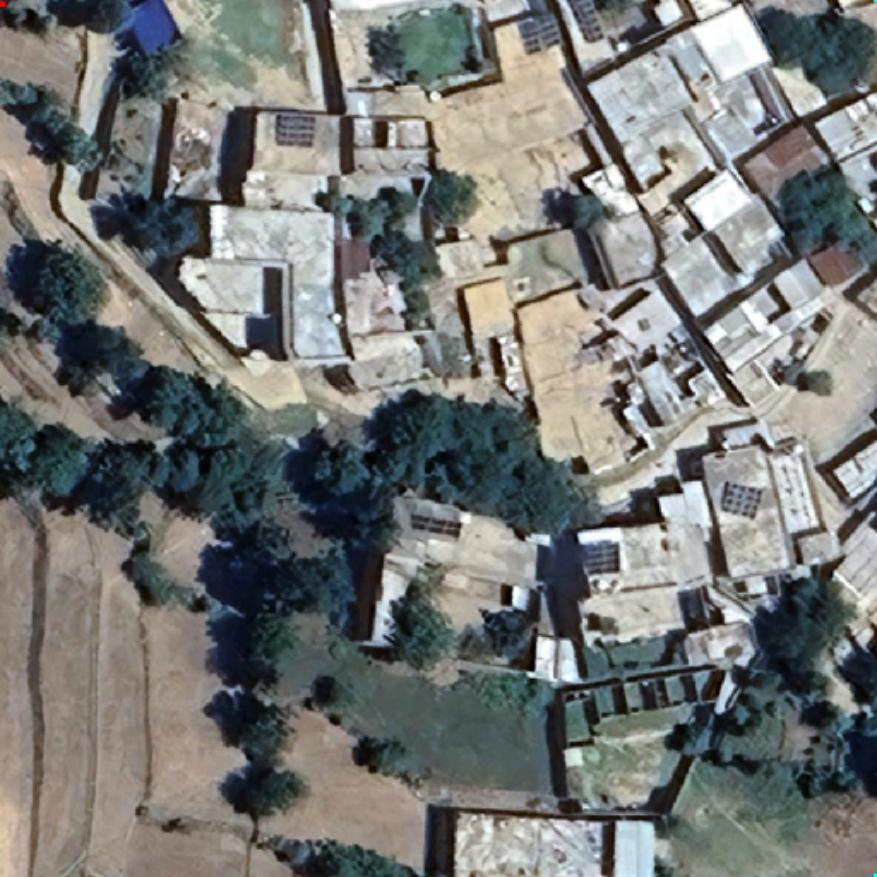Solarpanel: (408, 510, 464, 540), (721, 481, 763, 519), (524, 12, 562, 52), (570, 0, 604, 42), (276, 113, 316, 148), (584, 542, 620, 574)
